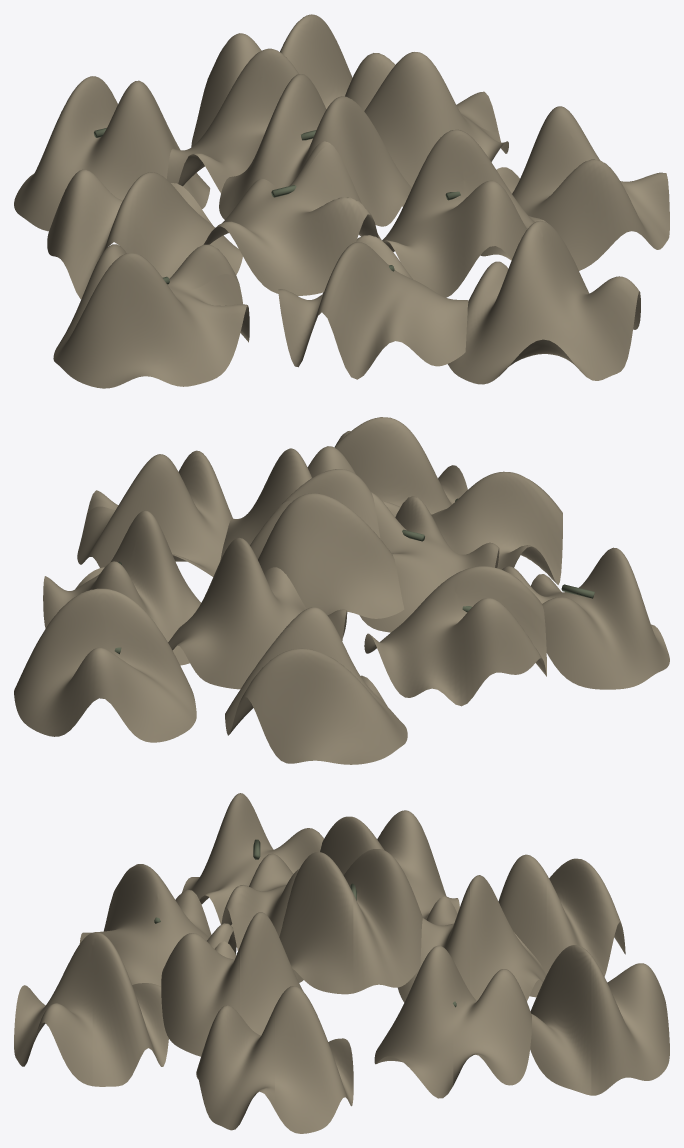
The model's file is favites-desktop.glb.
3 renders of one model, top to bottom at view 1: azimuth 30°, elevation 25°; view 2: azimuth 150°, elevation 25°; view 3: azimuth 270°, elevation 25°, orthographic. The views are drawn at different scales.
Visible parts, largest first — view 1: inflated-corallite, oral-mouth; view 2: inflated-corallite, oral-mouth; view 3: inflated-corallite.
Boxes of the visible parts, left/top/right/bottom form: inflated-corallite: left=14, top=14, right=669, bottom=388; oral-mouth: left=94, top=128, right=460, bottom=284; inflated-corallite: left=14, top=417, right=669, bottom=764; oral-mouth: left=114, top=498, right=594, bottom=654; inflated-corallite: left=14, top=793, right=669, bottom=1133.
Size of the model in its own units: 0.5517 by 0.1558 by 0.5729.
